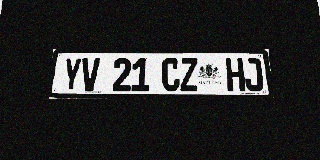1: (131, 58, 149, 91)
2: (113, 58, 131, 91)
C: (162, 58, 180, 91)
H: (225, 58, 245, 91)
J: (243, 58, 264, 91)
V: (80, 58, 100, 91)
Y: (61, 58, 82, 91)
Z: (180, 58, 198, 91)
